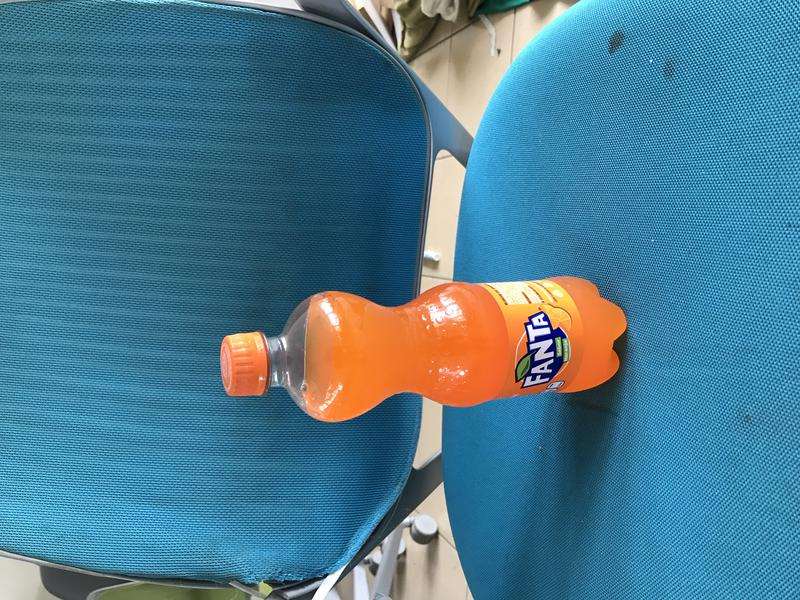fanta: (221, 276, 627, 424)
